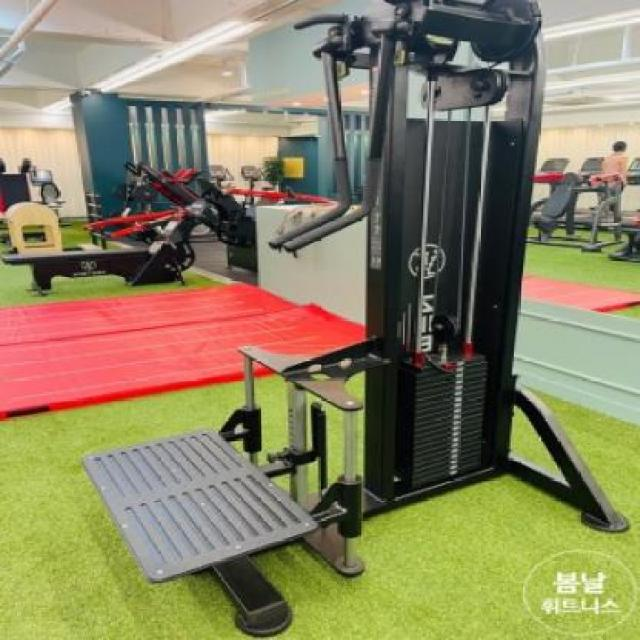lateral raises machine: (245, 0, 546, 500)
